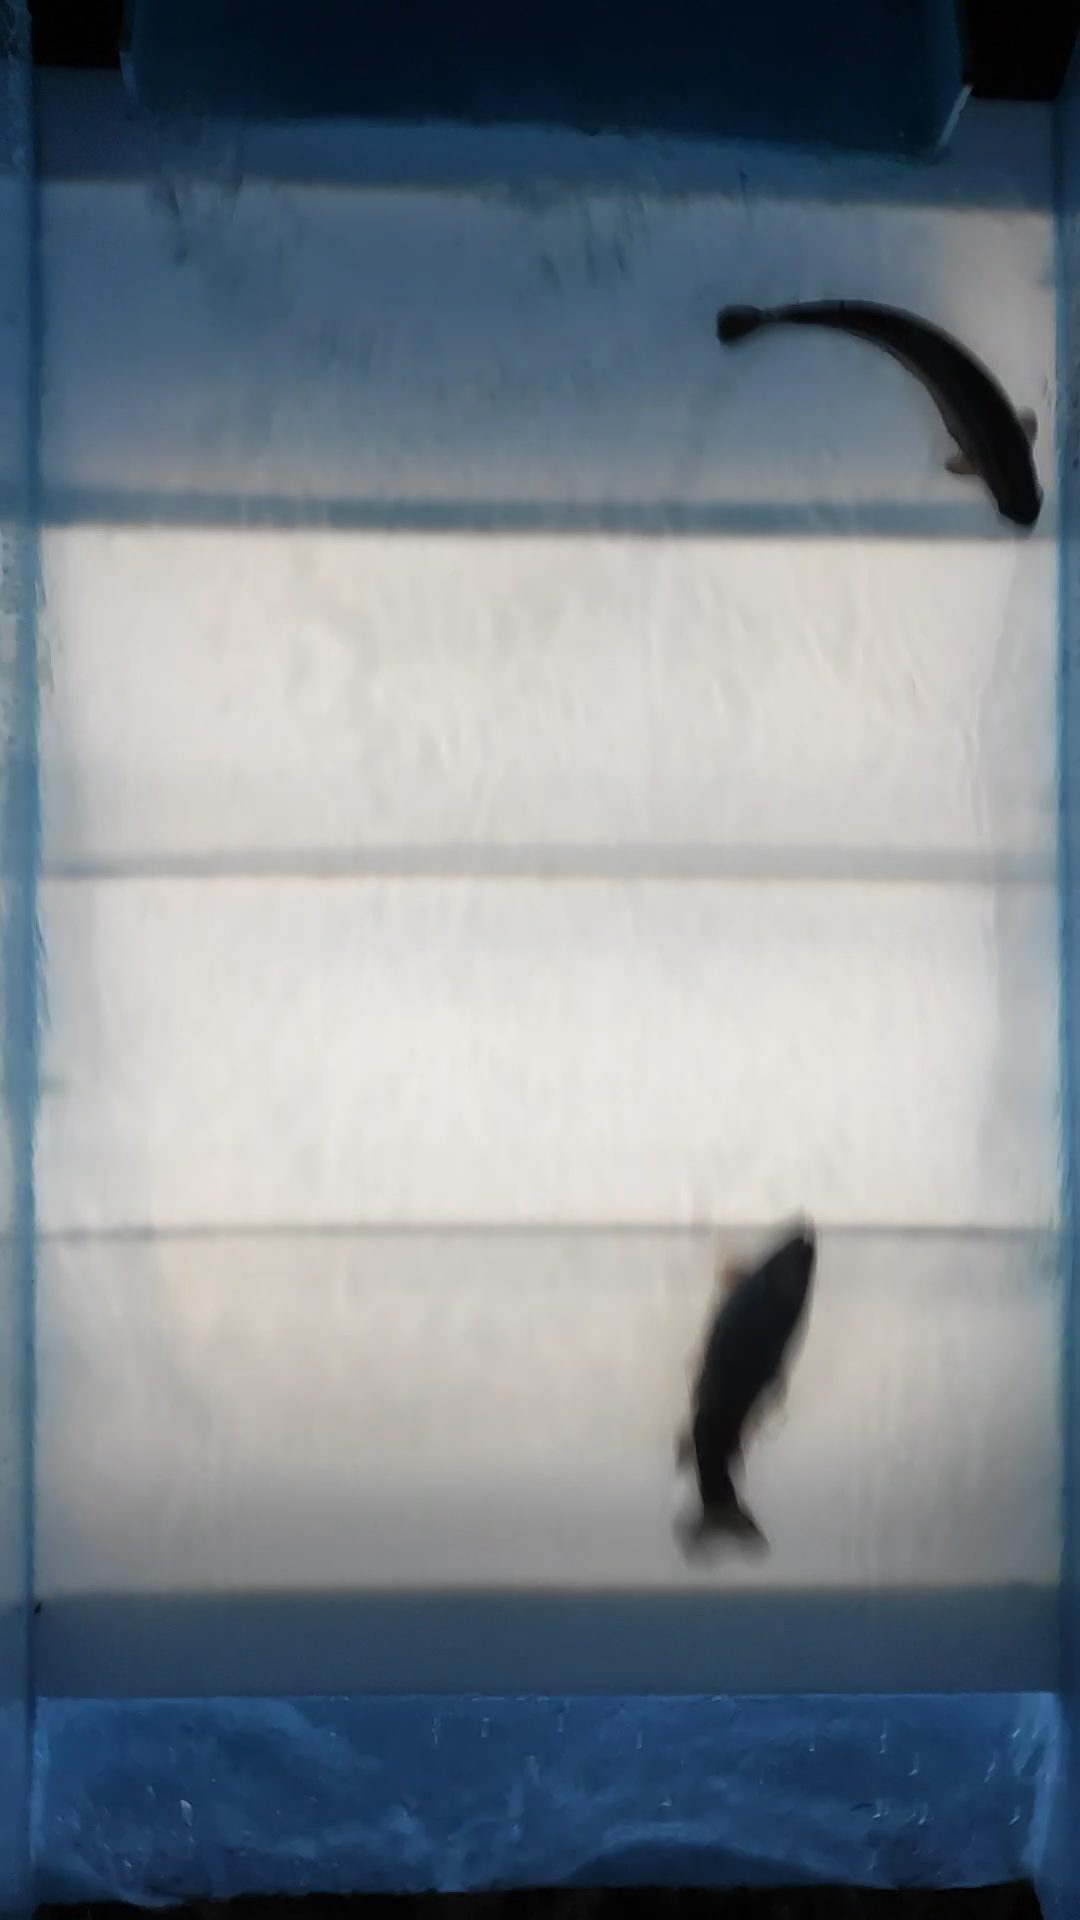fish: (716, 289, 1051, 539), (663, 1221, 822, 1574)
